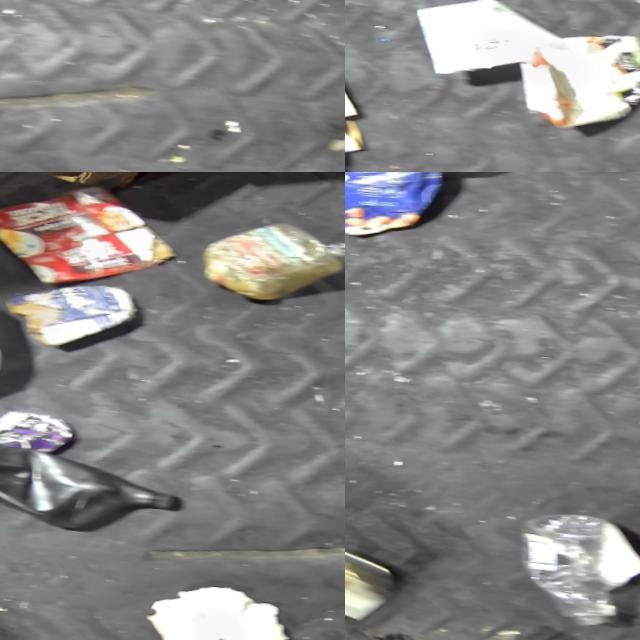milk_jug: (504, 22, 640, 139)
non_white_jug: (0, 436, 178, 546), (345, 172, 444, 243)
plastic_bottle: (495, 511, 634, 637)
